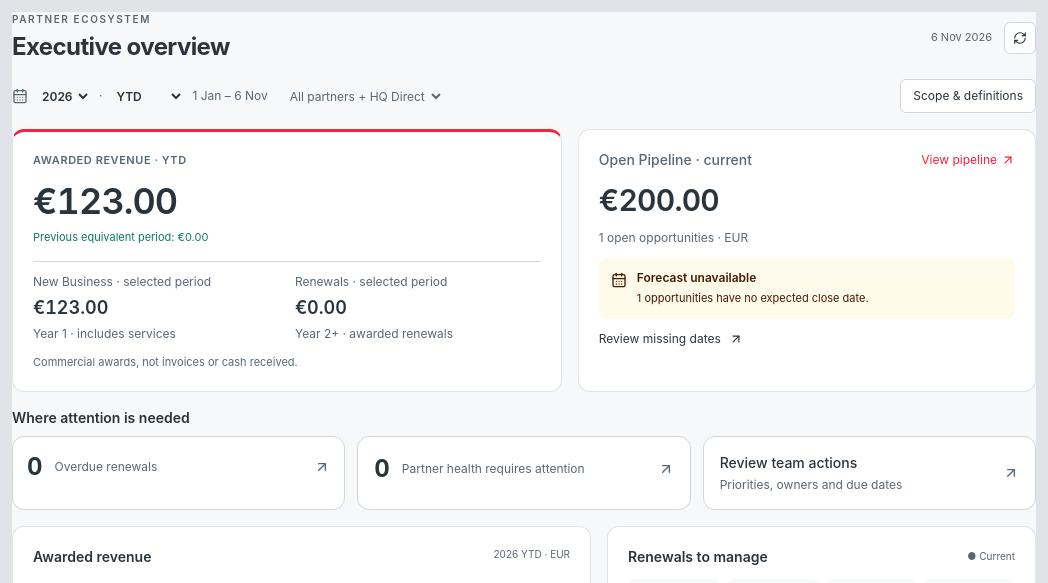
Scenario: Dashboard role, error and filter behavior › updates financial cards with selected quarter and includes archived historical selection only explicitly
Later steps or results of the test are not shown.
Select "Q2" in the dropdown named "Period". click: (148, 96)
box: [110,80,184,112]
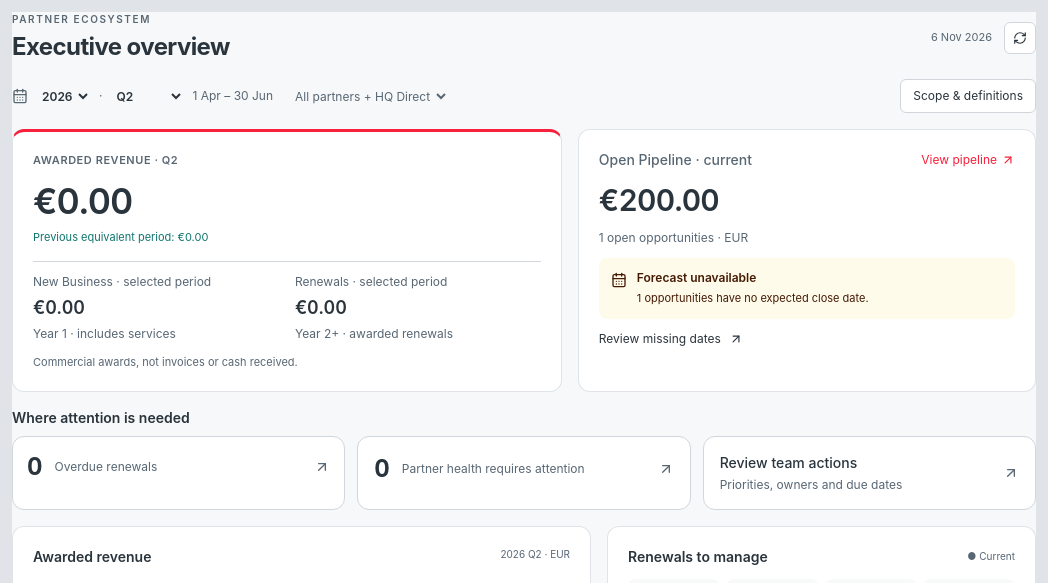
Result: the heading "Awarded Revenue · Q2" is shown at [33,153,178,167]
